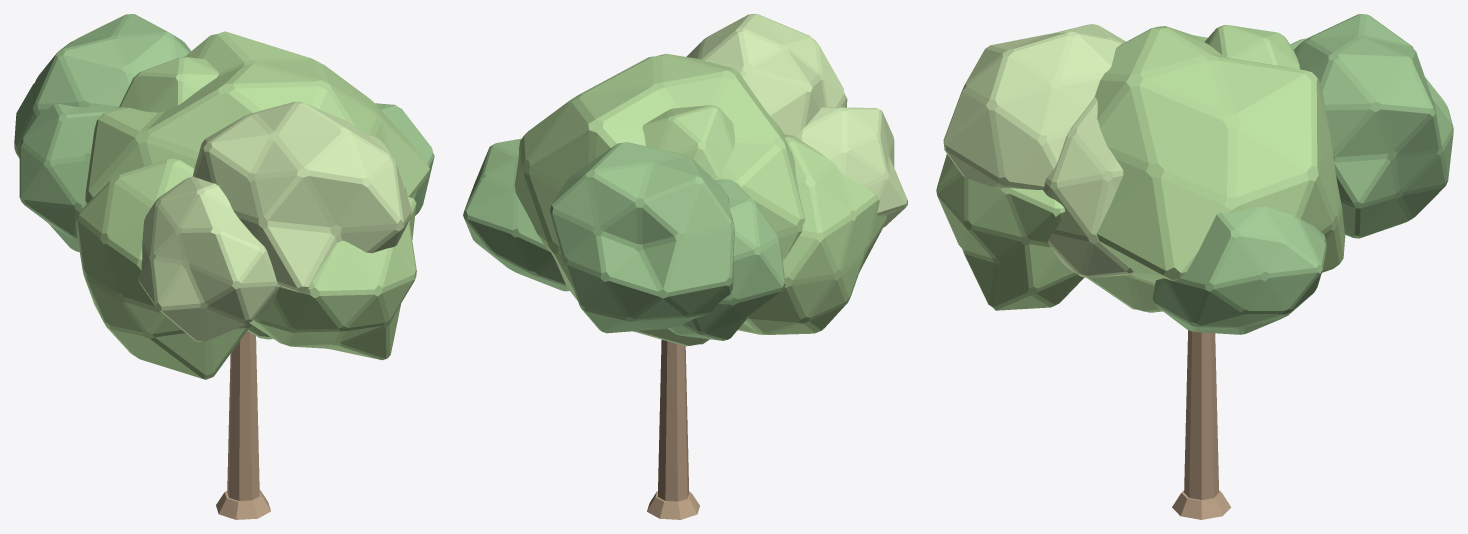
The model's file is Veg_Tree_Big.fbx.
The picture shows the model from 3 angles, left to right: view 1: azimuth 30°, elevation 25°; view 2: azimuth 150°, elevation 25°; view 3: azimuth 270°, elevation 25°; orthographic projection. The views are drawn at different scales.
Visible parts, largest first — view 1: Veg_Tree_Big_Veg, Veg_Tree_Big; view 2: Veg_Tree_Big_Veg, Veg_Tree_Big; view 3: Veg_Tree_Big_Veg, Veg_Tree_Big.
Boxes of the visible parts, x1=… form: Veg_Tree_Big_Veg: x1=14, y1=14, x2=434, y2=379; Veg_Tree_Big: x1=216, y1=331, x2=270, y2=519; Veg_Tree_Big_Veg: x1=463, y1=14, x2=907, y2=346; Veg_Tree_Big: x1=647, y1=340, x2=699, y2=519; Veg_Tree_Big_Veg: x1=936, y1=14, x2=1453, y2=334; Veg_Tree_Big: x1=1172, y1=330, x2=1231, y2=519.
Bounding box in the file's own units: 3.22 × 3.84 × 3.83.
